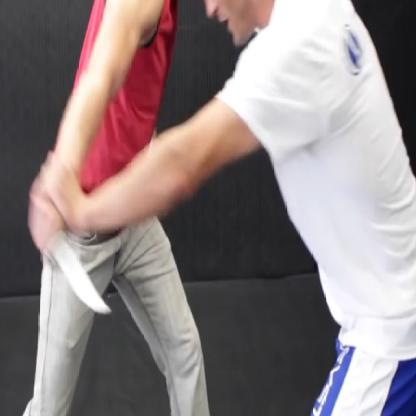knife: (23, 202, 117, 328)
